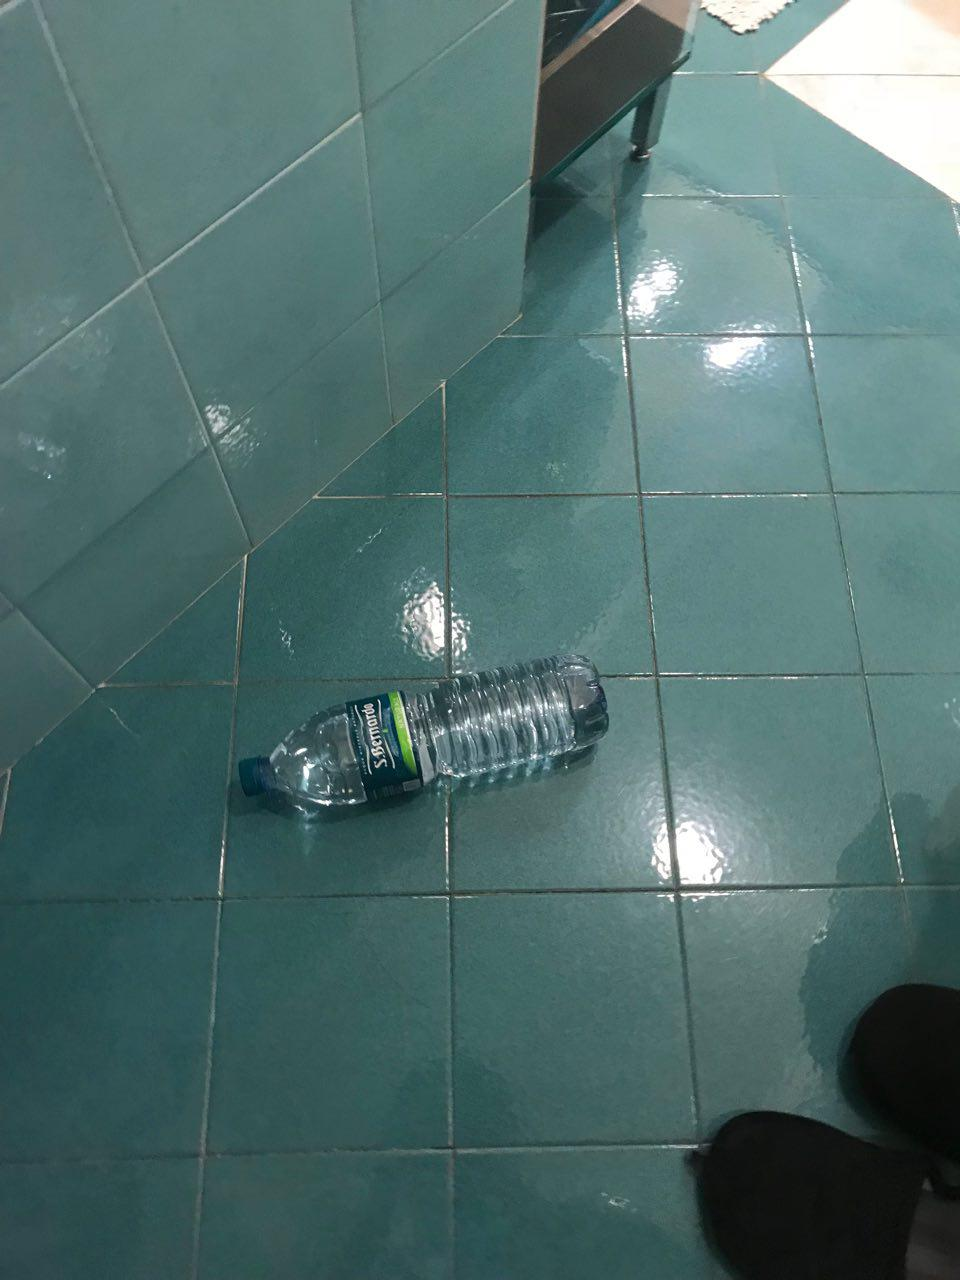san_bernardo: (238, 653, 610, 807)
